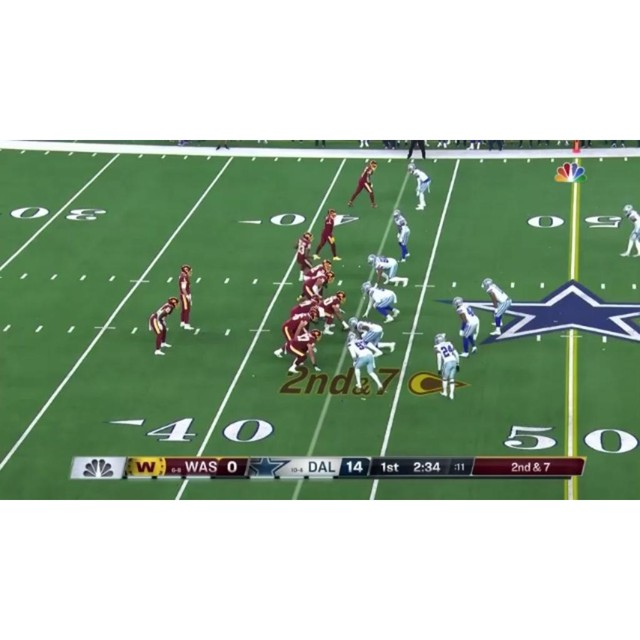american-football-player: (346, 333, 385, 395), (273, 309, 319, 358), (433, 333, 461, 401), (481, 277, 512, 336), (149, 297, 179, 357), (286, 328, 324, 375), (452, 296, 480, 357), (361, 280, 401, 322), (347, 159, 378, 209), (348, 315, 385, 355), (366, 253, 409, 287), (317, 290, 349, 335), (315, 208, 341, 260), (408, 161, 432, 211), (178, 263, 195, 331), (620, 204, 640, 259), (301, 270, 334, 301), (392, 209, 411, 261), (295, 231, 315, 279), (303, 259, 334, 282)
